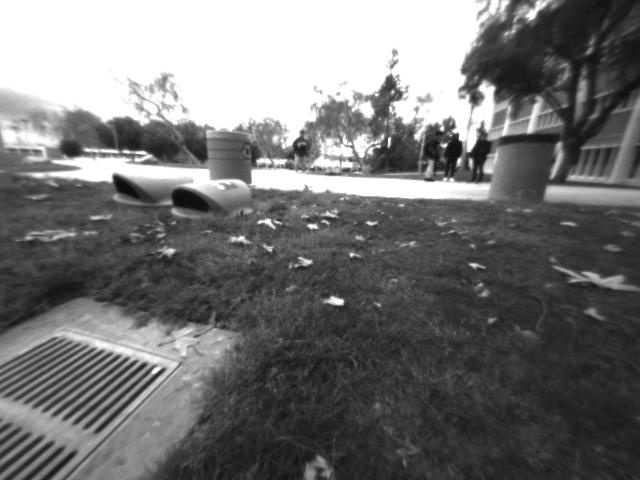trashcan: (495, 135, 555, 211), (209, 126, 258, 189)
